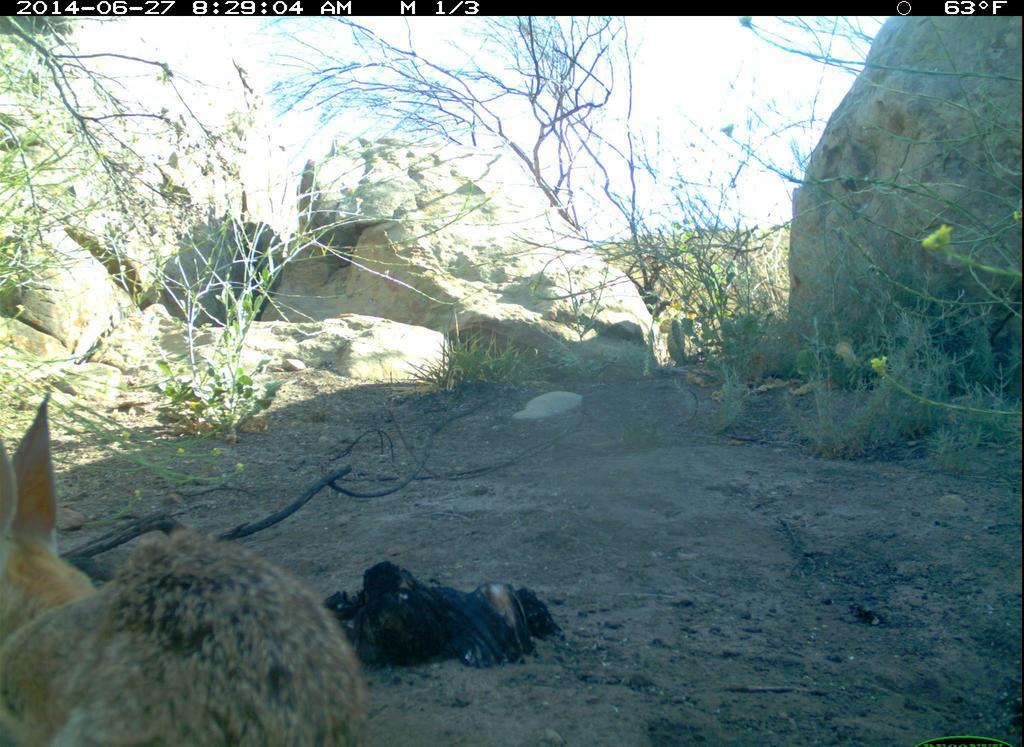rabbit: (3, 385, 381, 744)
